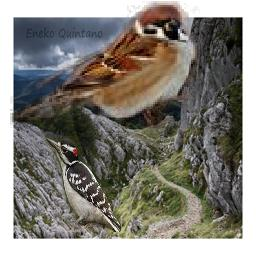Sparrow: (11, 2, 204, 129)
Woodpecker: (45, 136, 121, 232)
